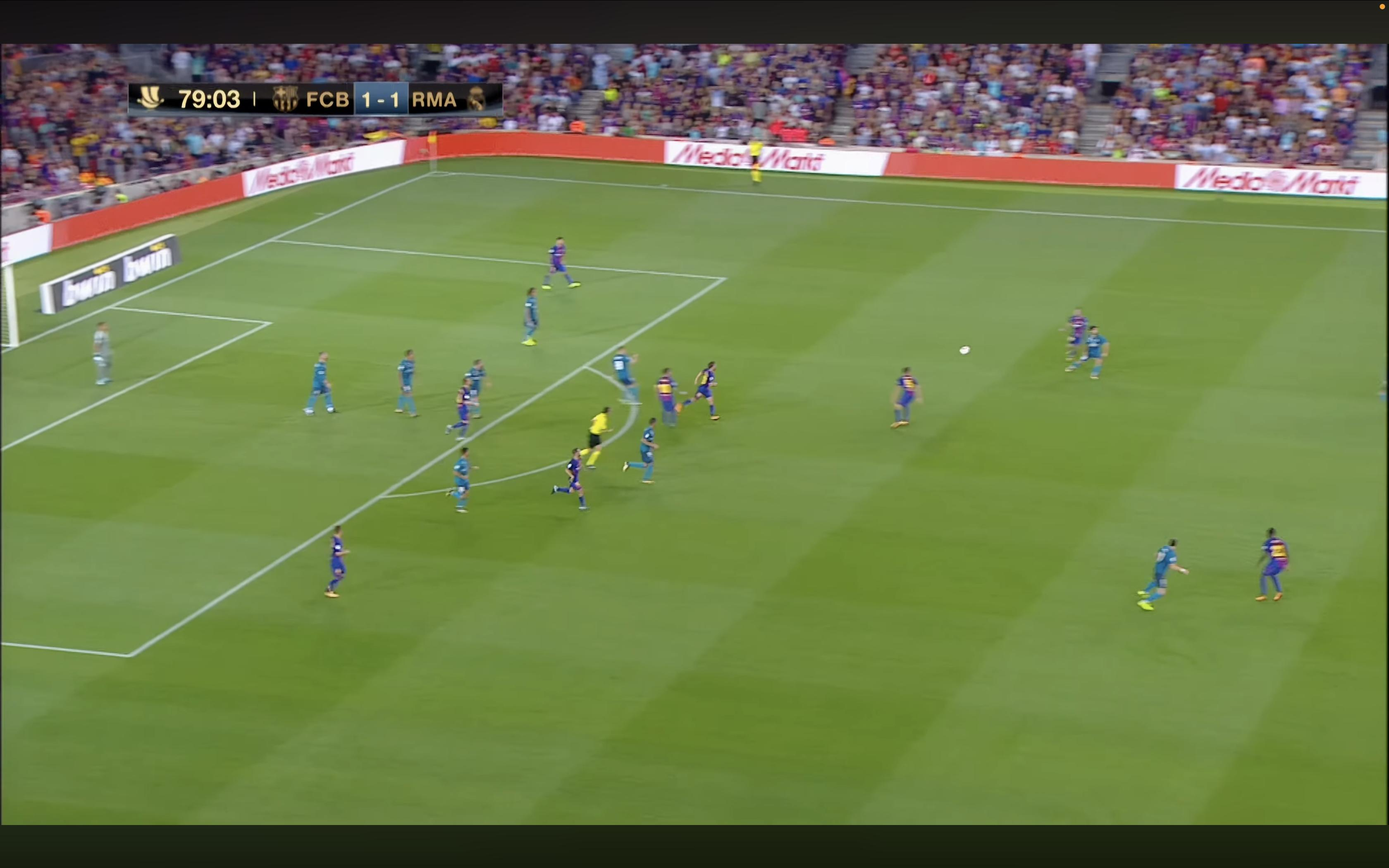ball: (959, 346, 970, 355)
goalkeeper: (93, 322, 112, 385)
player: (1137, 539, 1189, 610), (677, 361, 720, 420), (1256, 528, 1289, 601), (623, 417, 658, 484), (1065, 325, 1109, 378), (552, 448, 588, 510), (542, 237, 581, 290), (304, 352, 335, 415), (446, 379, 476, 441), (325, 525, 349, 598), (890, 367, 918, 428), (447, 448, 471, 513), (395, 350, 418, 417), (612, 347, 639, 404), (465, 359, 489, 419), (1062, 307, 1088, 361), (655, 368, 678, 426), (523, 288, 538, 346)
referee: (580, 407, 611, 469), (749, 138, 764, 184)
